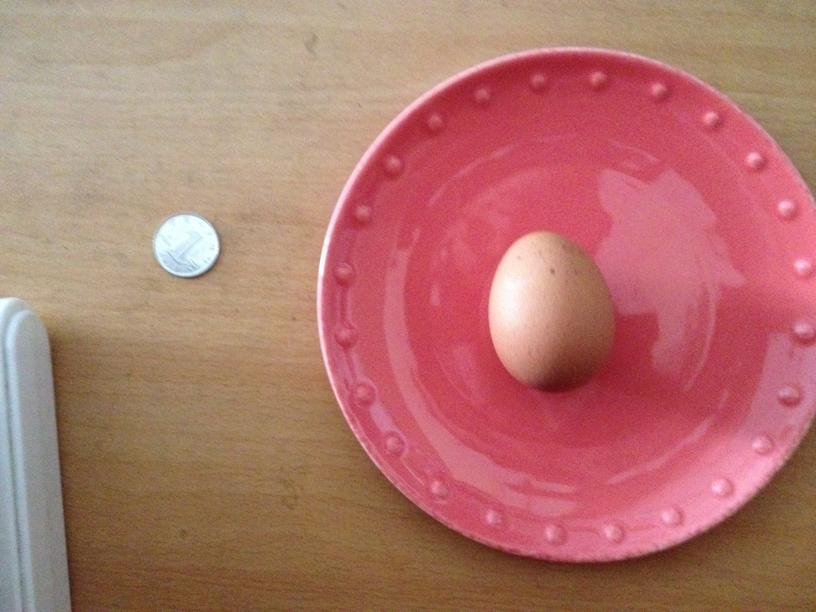coin: (151, 212, 220, 278)
egg: (488, 231, 615, 389)
